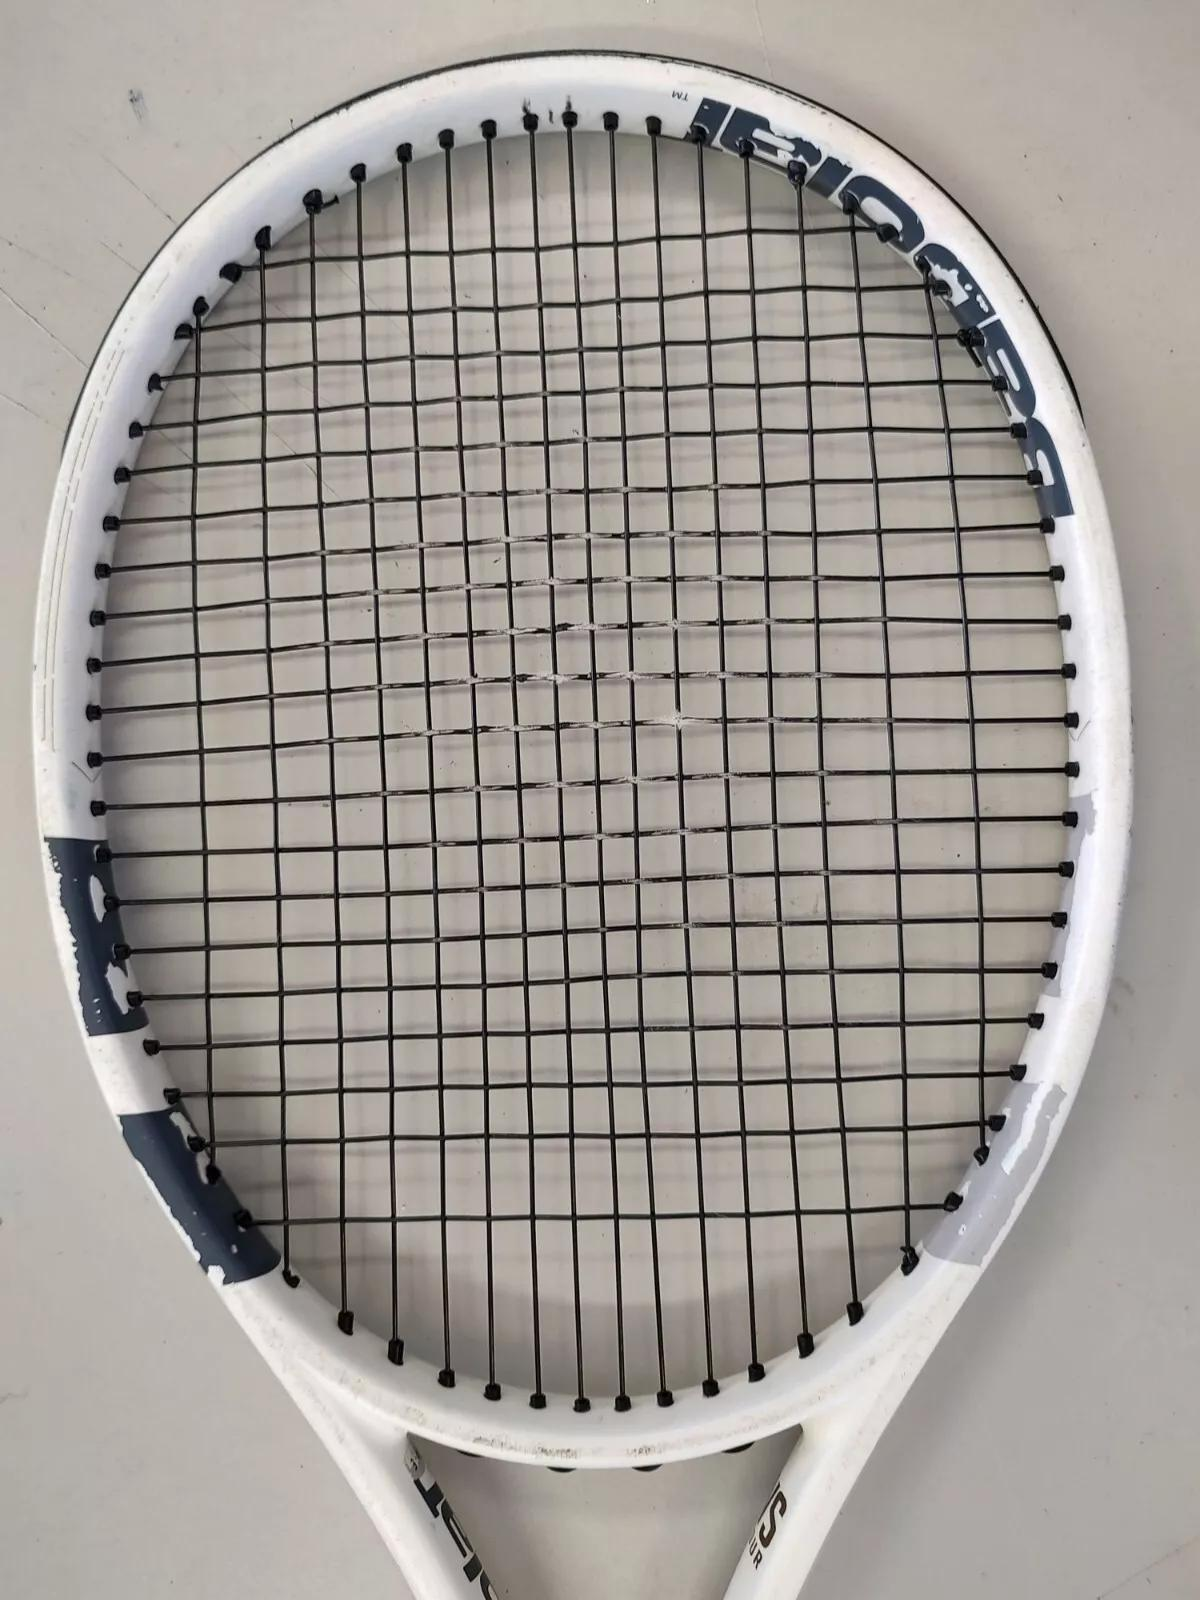Tennis-Racket: (34, 53, 1132, 1600)
